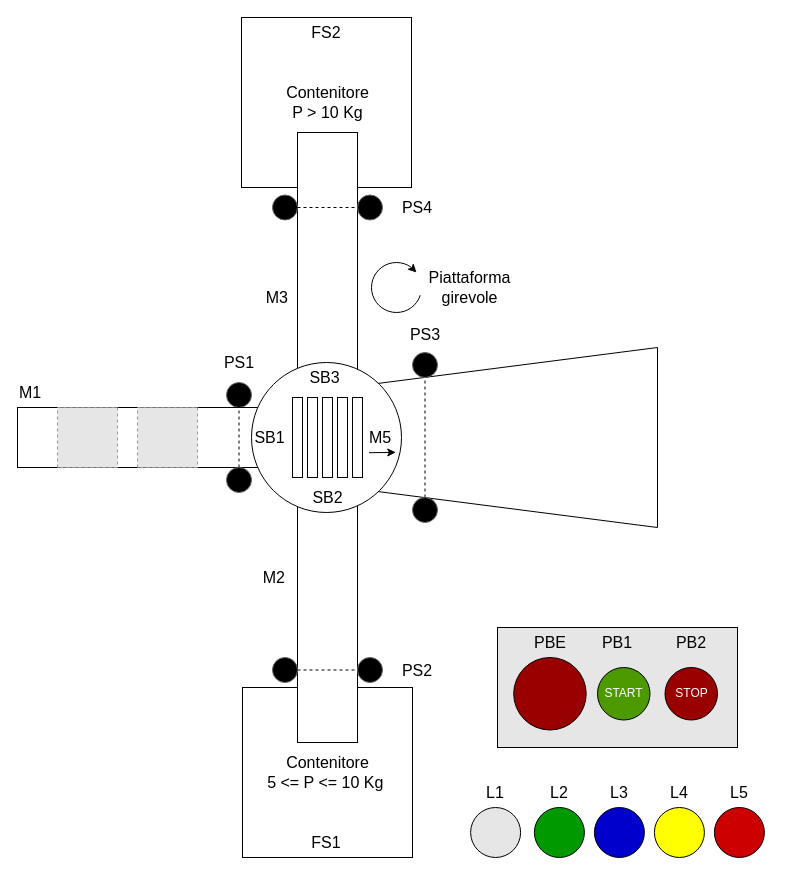
This 787x875 diagram has some shape labels left out. Grey dashed boxes stand in for pictures. The centre of each missing label's shape, as x and y in pixels:
"M4" belongs at [396,287].
"Scivolo P < 5 Kg" belongs at [517,437].
